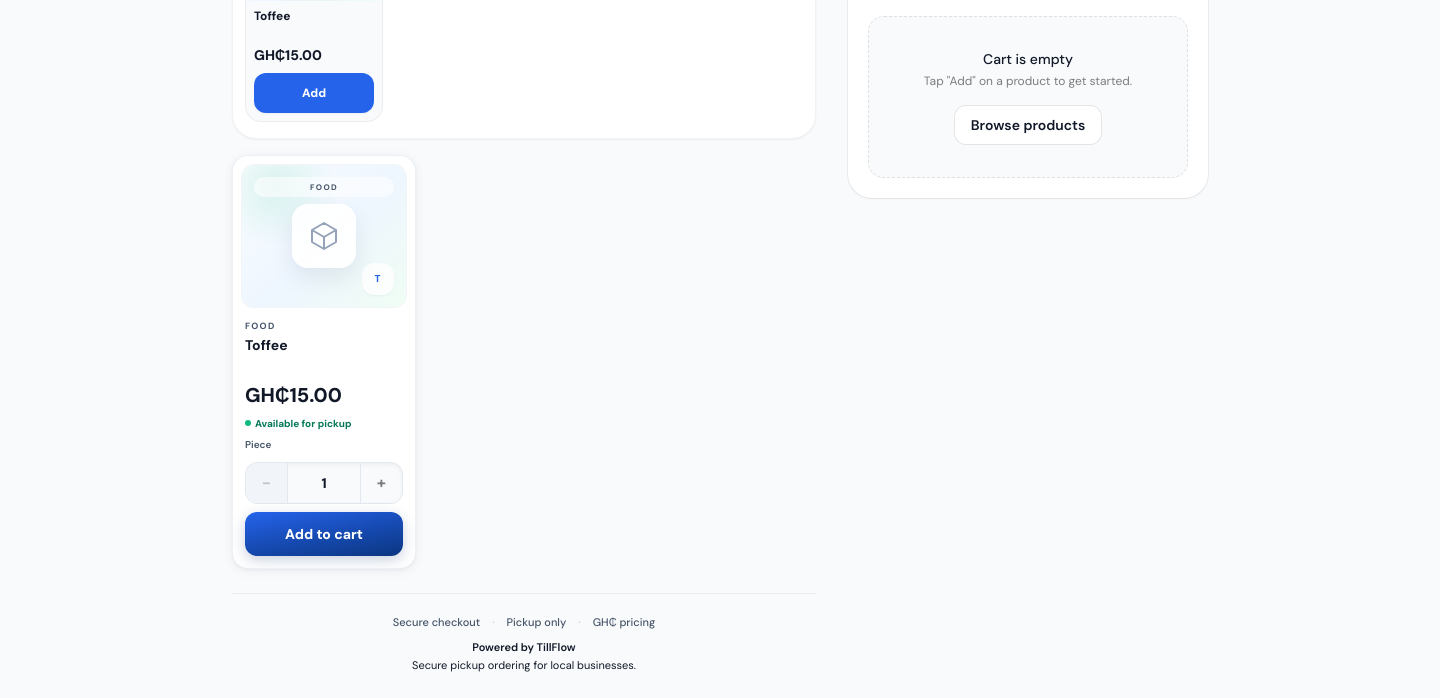
states pickup expectations and does not claim sales popularity for generated selections
(page scrolled)
Click the button with aria-label "Add Toffee to cart" at (324, 534), box [245,512,403,556]
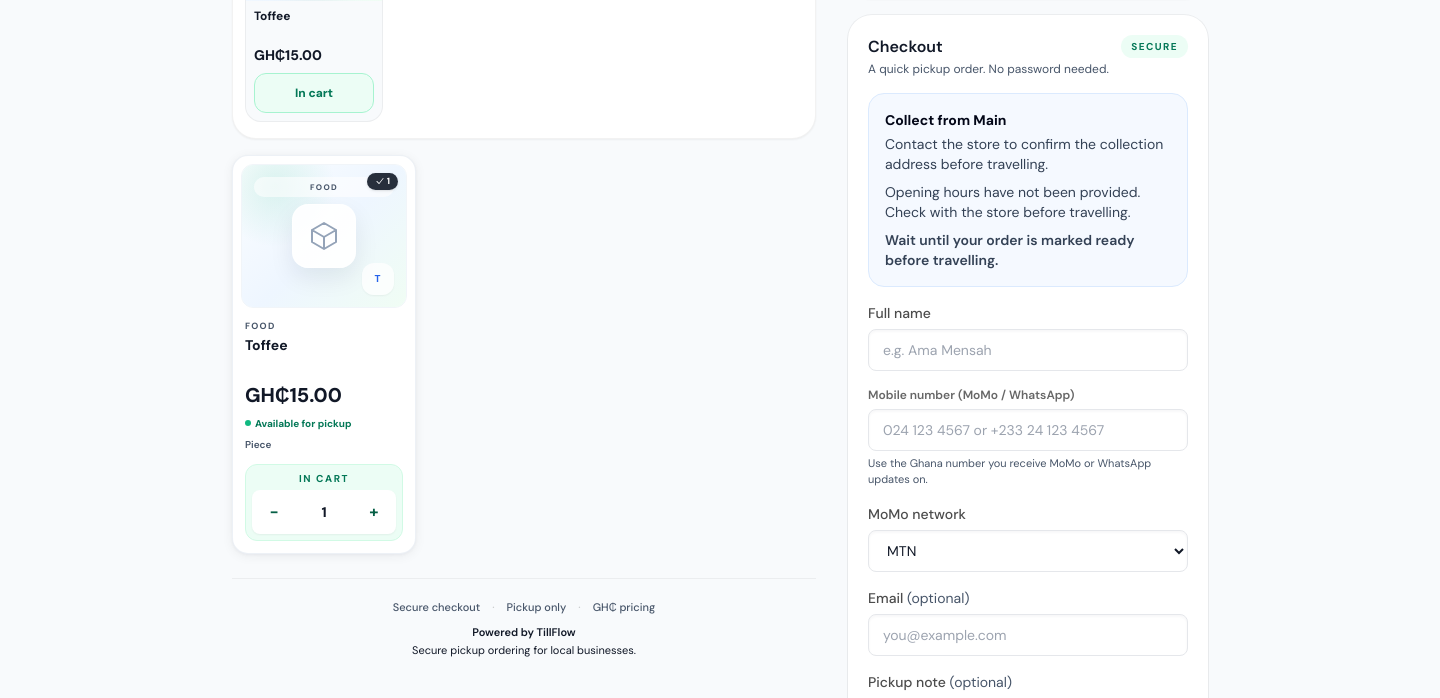
Now the heading "Checkout" is shown, box [868,36,943,56]
Now the text "Wait until your order is marked ready before travelling." is shown, box [885,230,1171,270]
Now the text "Opening hours have not been provided" is shown, box [885,182,1140,220]
